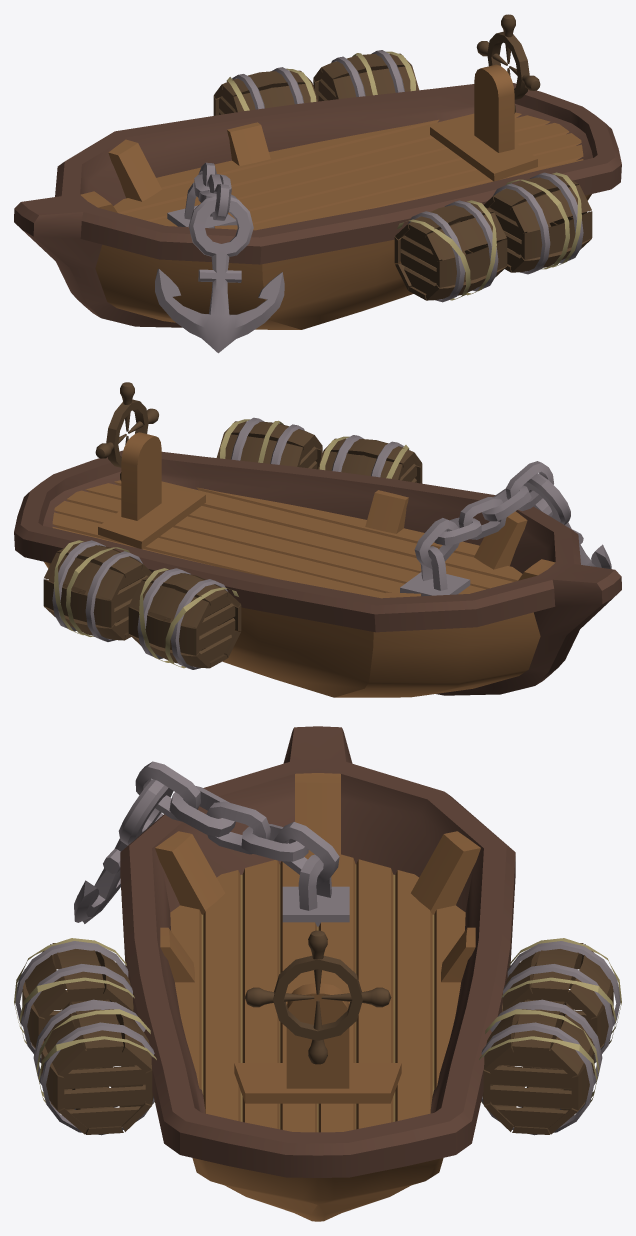
File: quaternius-pirate-ship-small.glb
The picture shows the model from 3 angles, top to bottom: view 1: azimuth 30°, elevation 25°; view 2: azimuth 150°, elevation 25°; view 3: azimuth 270°, elevation 25°; orthographic projection. The views are drawn at different scales.
Parts seen in each view (by area): view 1: Ship_Small; view 2: Ship_Small; view 3: Ship_Small.
Boxes of the visible parts, left/top/right/bottom form: Ship_Small: left=14, top=14, right=621, bottom=353; Ship_Small: left=14, top=382, right=621, bottom=697; Ship_Small: left=14, top=726, right=621, bottom=1221.
Bounding box in the file's own units: 5.15 × 1.99 × 3.6.
Materials: 1 (1 with a texture image).
